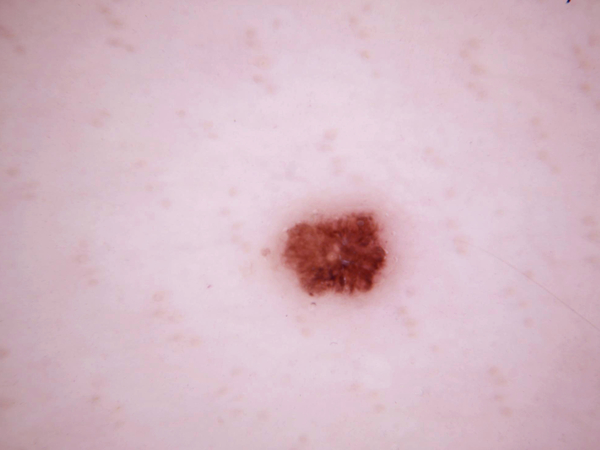Detected Lesion: (274, 206, 393, 304)
